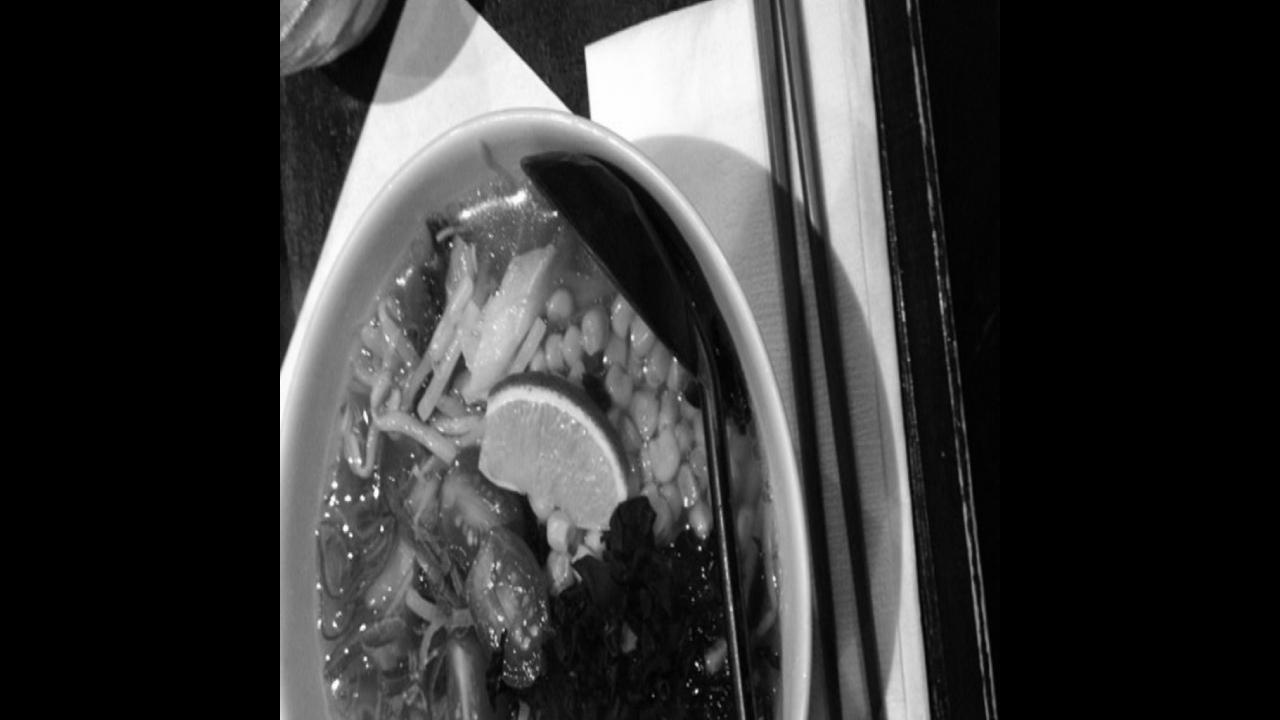chopstick: (742, 0, 909, 720)
